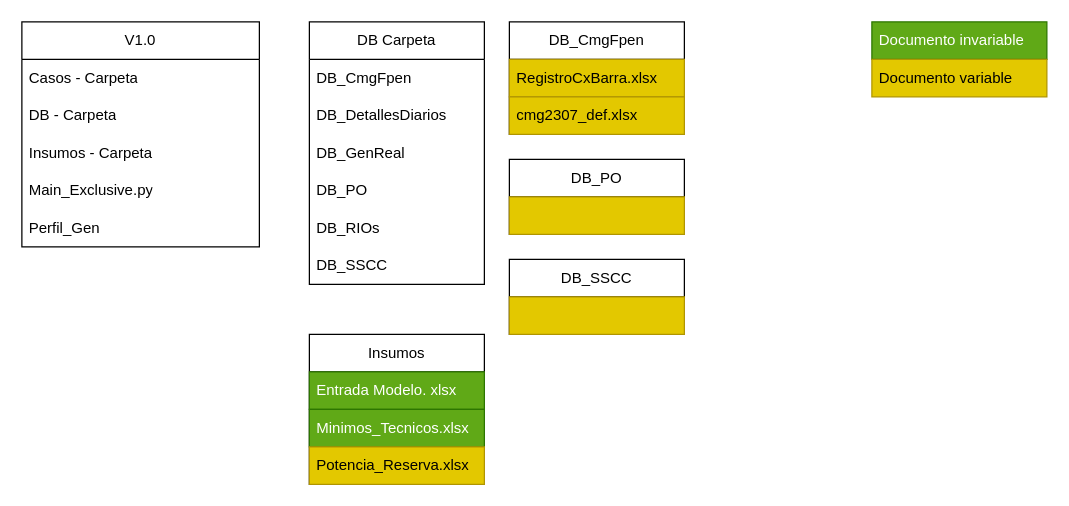
Some shapes in this 1069 by 506 pixel diagram are drawn without their labels. Here are the shapes that lost their labels. From the top down, the centre of each, then its label:
At (596,215): "POs".
At (596,315): "Costo Oportunidad - Detalle Diario".
